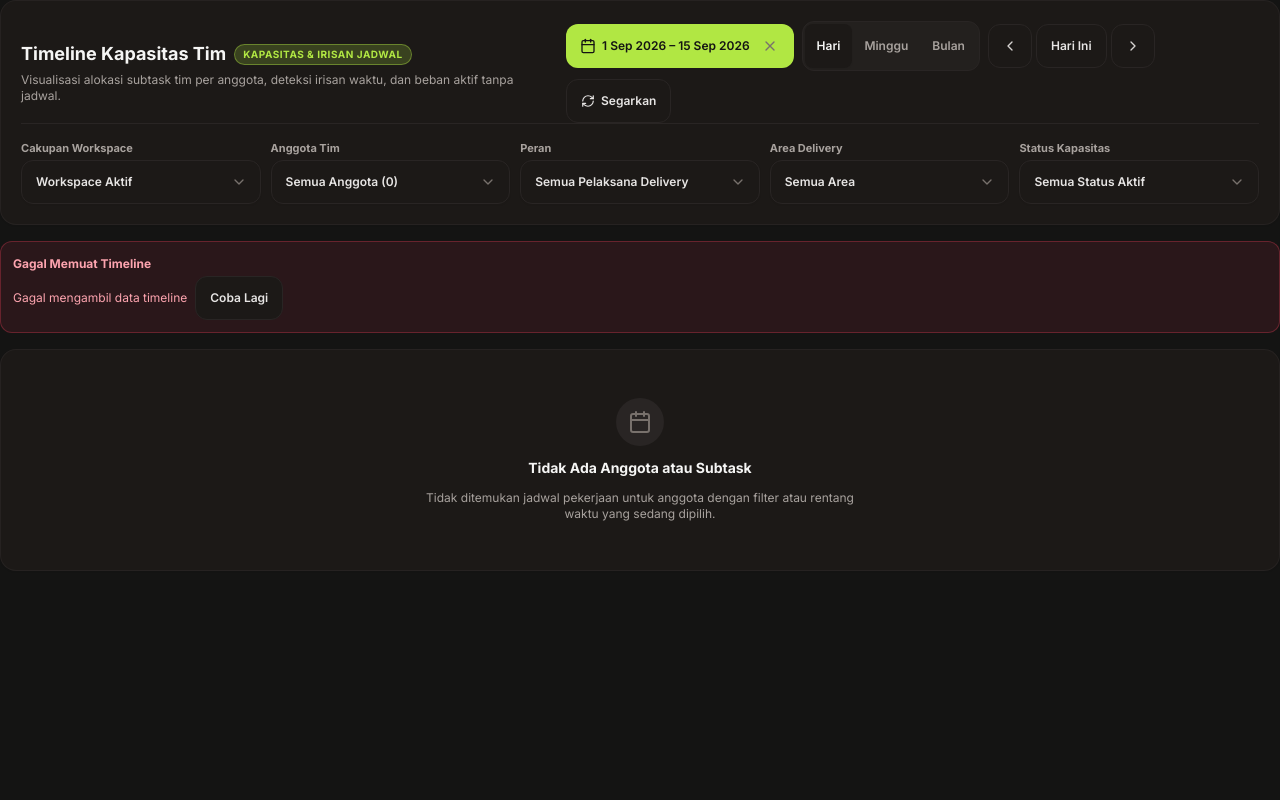
Test: TeamCapacityTimeline Component › renders error state and retries on button click
Expected: the text "Gagal mengambil data timeline" is shown, top-left (13, 288), bottom-right (187, 307)
Click the button "Coba Lagi".
click(239, 298)  # box top-left (195, 276), bottom-right (283, 320)
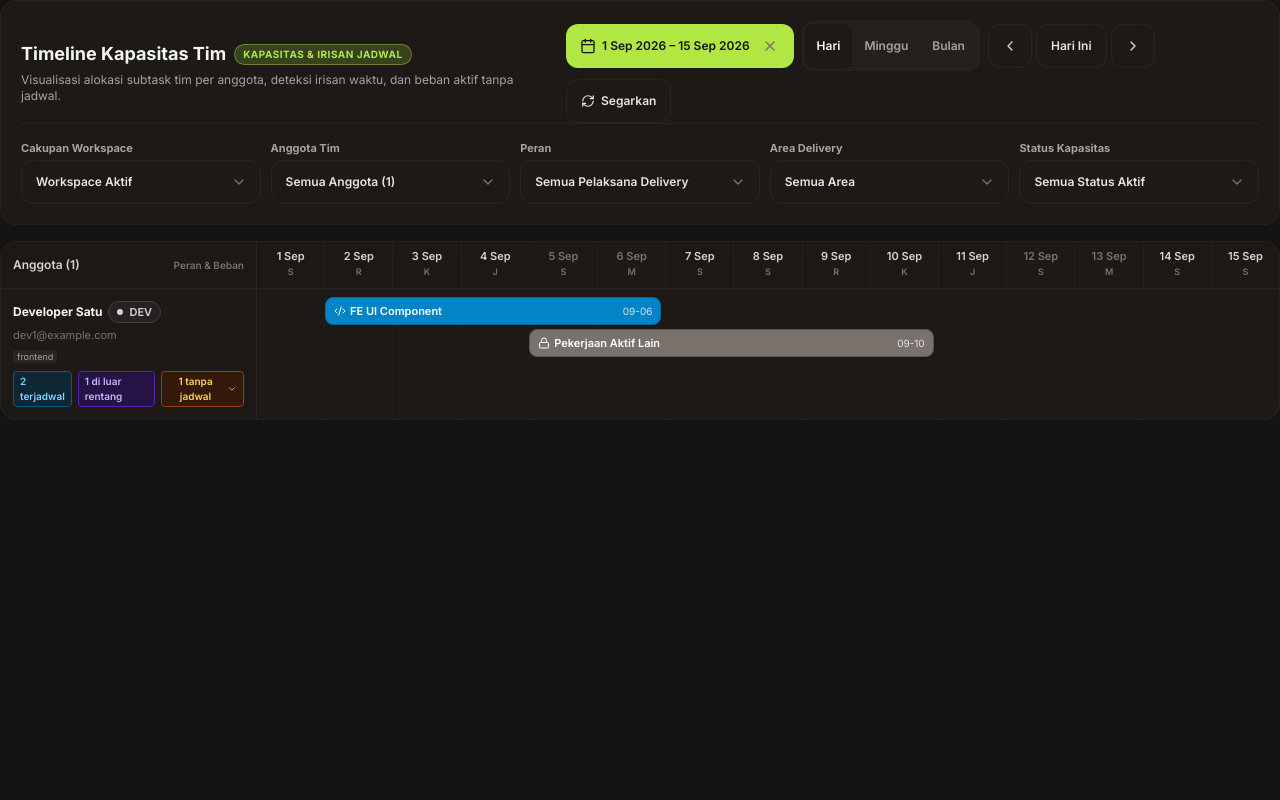
Expected: the text "Developer Satu" is shown, top-left (13, 304), bottom-right (102, 320)
